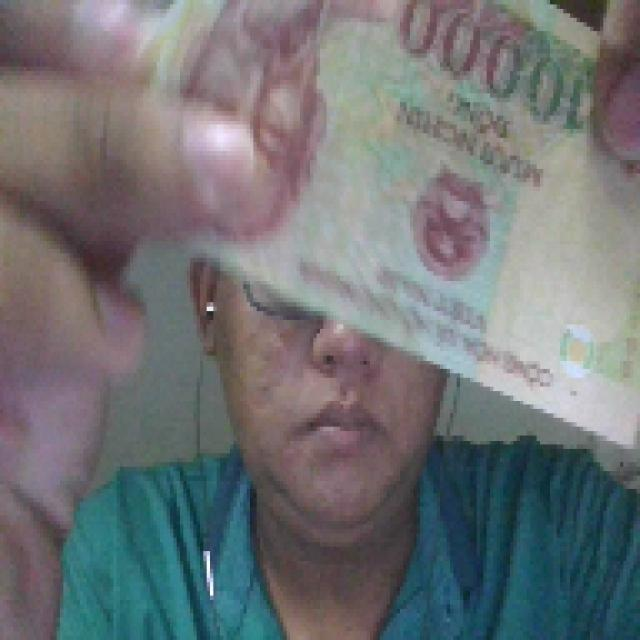10 000 VND: (156, 0, 636, 467)
